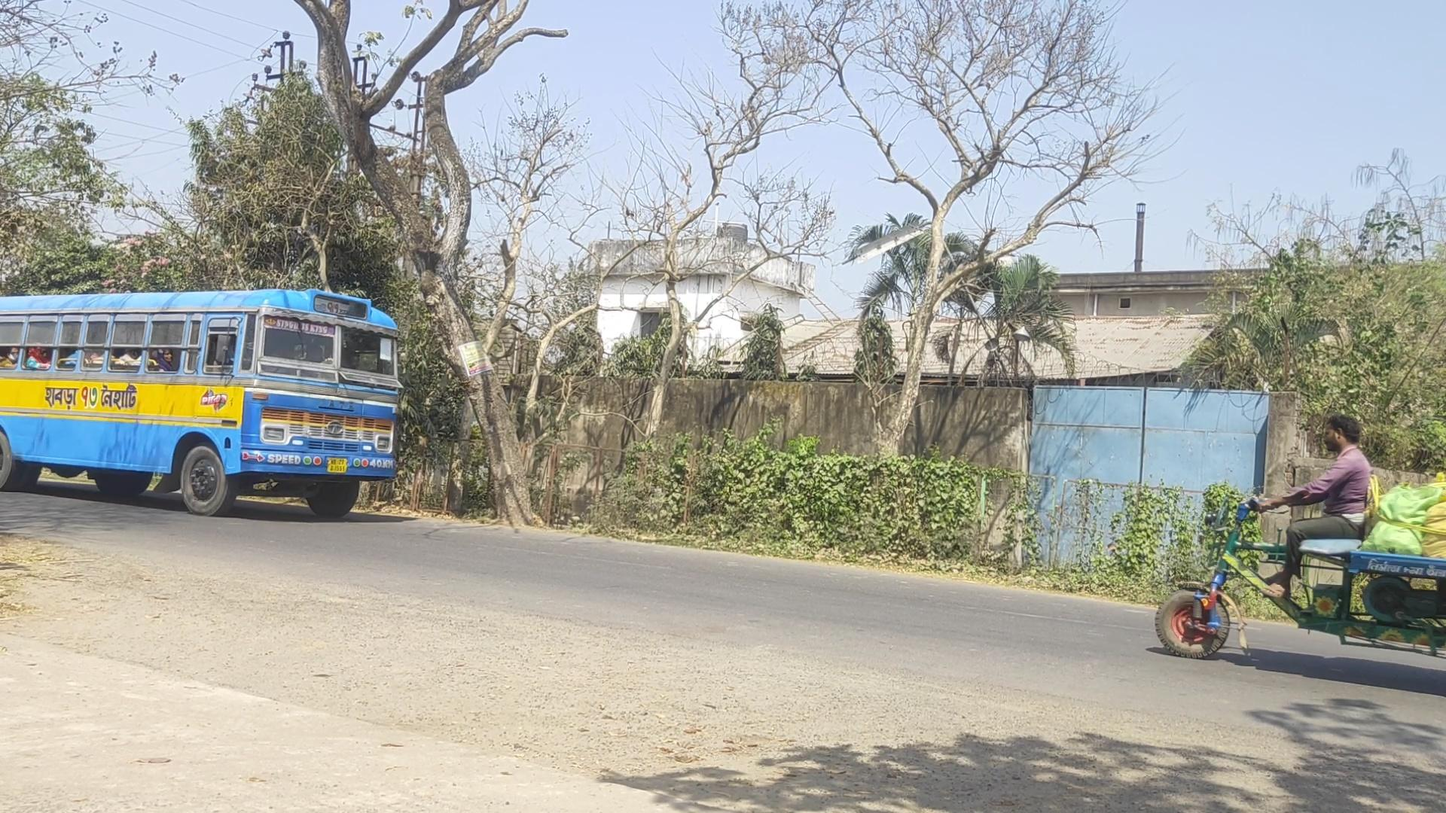Bus: (7, 288, 404, 516)
